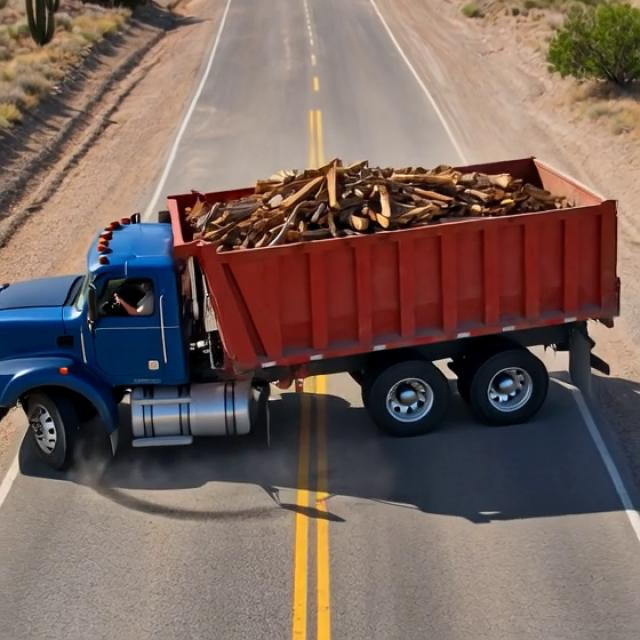Box: (165, 151, 616, 263)
Truck: (4, 122, 630, 490)
